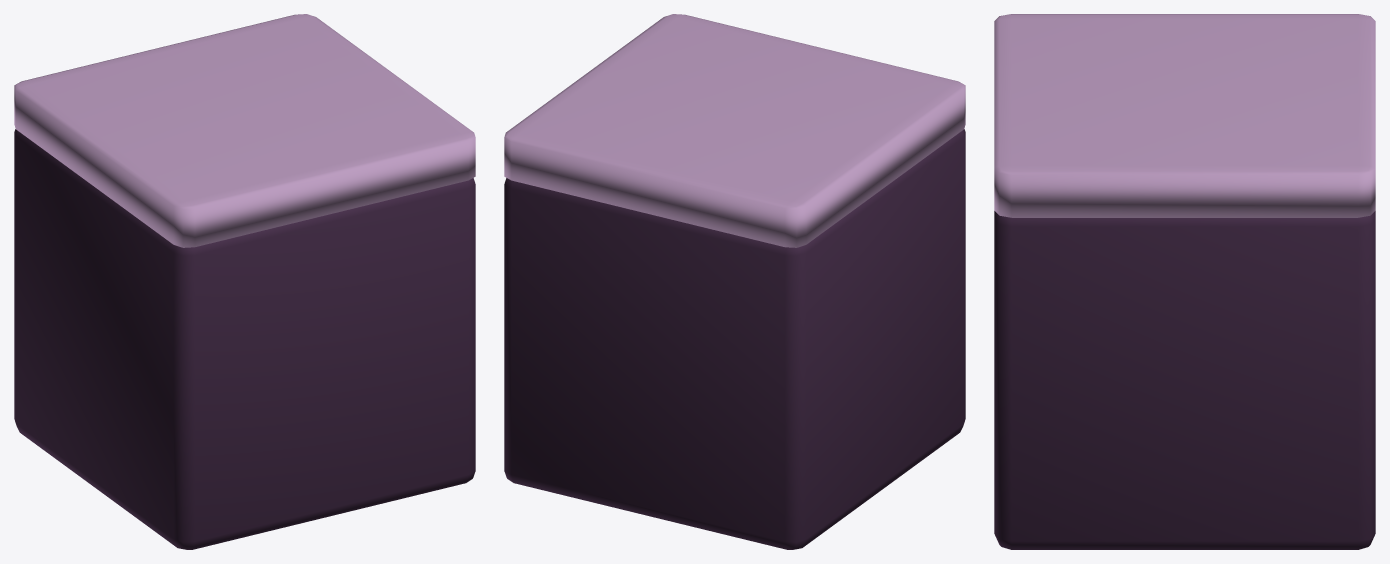
File: Plataforma.fbx
3 views of the same model, side by side, from view 1: azimuth 30°, elevation 25°; view 2: azimuth 150°, elevation 25°; view 3: azimuth 270°, elevation 25° (orthographic). The views are drawn at different scales.
Visible parts, largest first — view 1: Cube, Cube.001; view 2: Cube, Cube.001; view 3: Cube, Cube.001.
Part boxes in pixels (x1,y1,x2,y2): Cube: [14, 129, 475, 549]; Cube.001: [14, 14, 475, 247]; Cube: [504, 129, 965, 549]; Cube.001: [504, 14, 965, 247]; Cube: [994, 211, 1375, 549]; Cube.001: [994, 14, 1375, 217].
Size of the model in its own units: 200 by 222 by 200.
